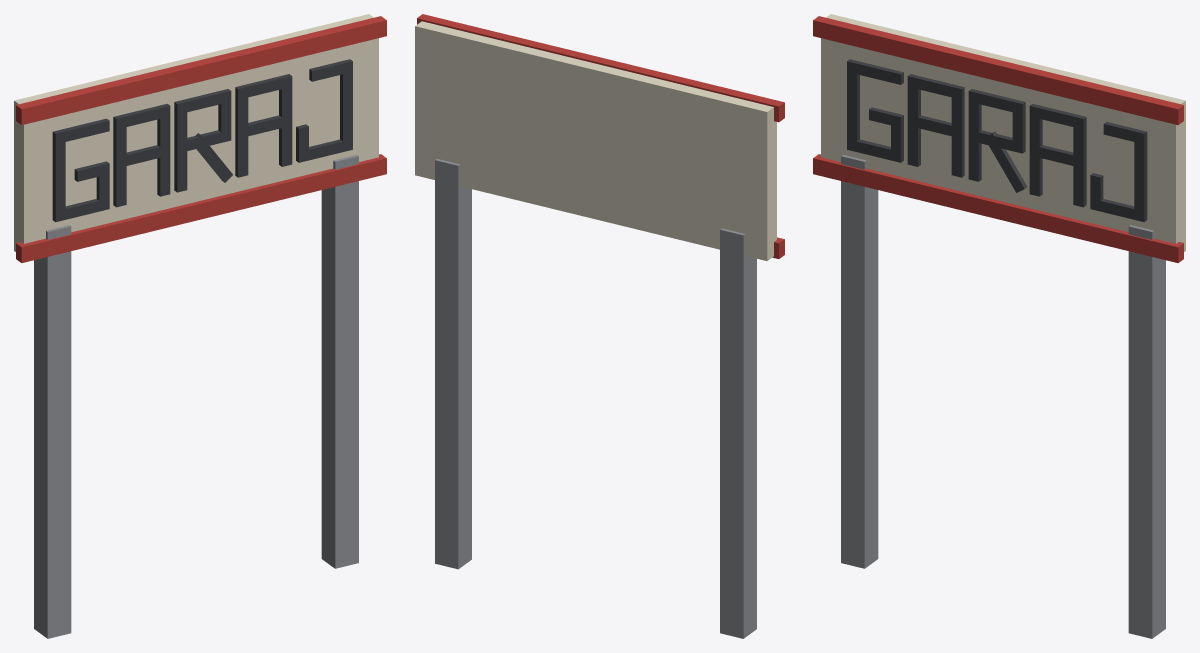
The model's file is garage_sign.glb.
3 renders of one model, left to right at view 1: azimuth 30°, elevation 25°; view 2: azimuth 150°, elevation 25°; view 3: azimuth 330°, elevation 25°, orthographic.
Visible parts, largest first — view 1: garage_sign; view 2: garage_sign; view 3: garage_sign.
Boxes of the visible parts, box(x1,y1,x2,y2) form: garage_sign: box(14, 14, 386, 638); garage_sign: box(415, 14, 784, 638); garage_sign: box(813, 14, 1185, 638).
Bounding box in the file's own units: 2.16 × 3.03 × 0.15.
